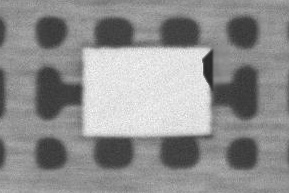DIE_BROKEN: (201, 49, 215, 90)
